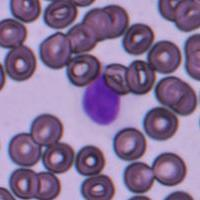L: (80, 70, 122, 127)
